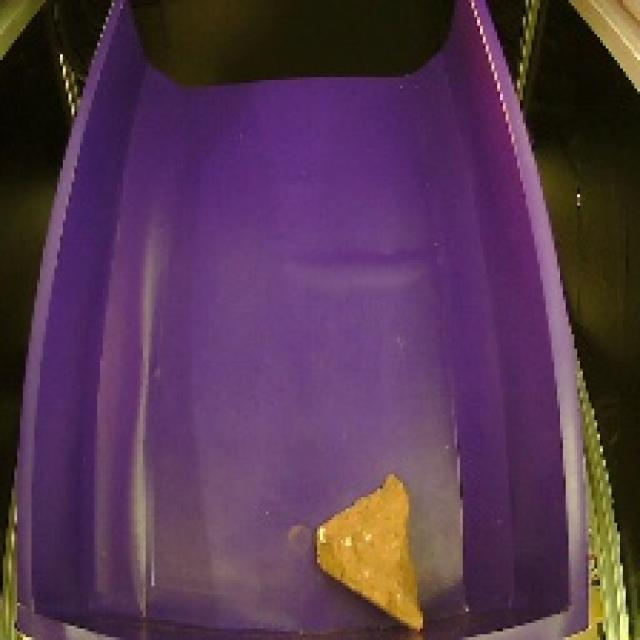brick: (302, 472, 433, 639)
